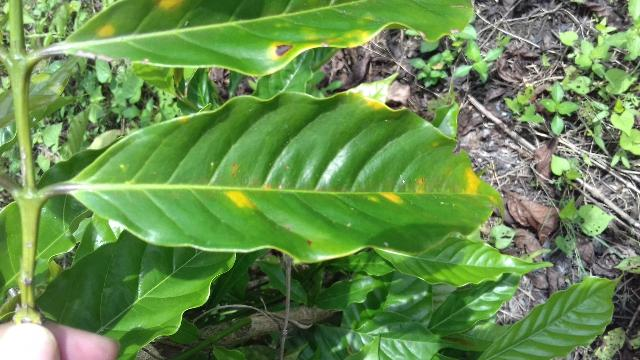rust_level_1: (72, 95, 512, 260)
